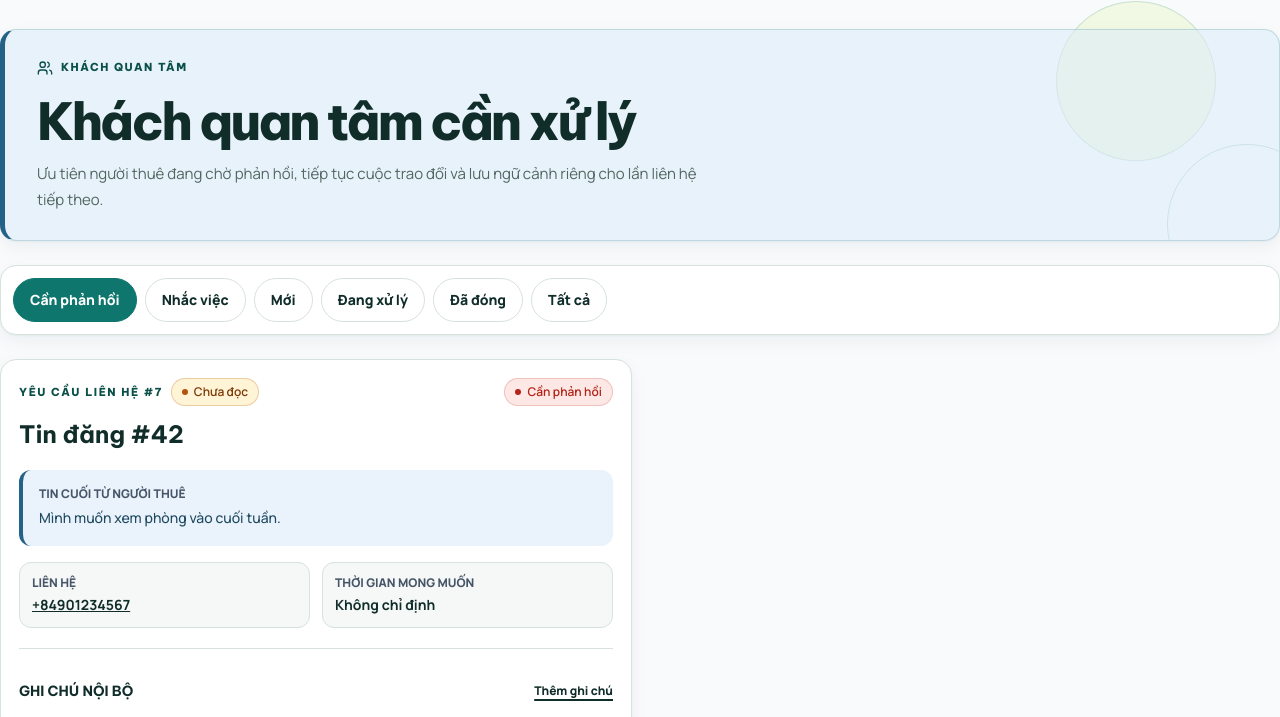
LandlordLeadsPage › loads the needs-reply work queue and saves a private note
Expected: the text "Mình muốn xem phòng vào cuối tuần." is shown, [39, 508, 281, 527]
Expected: the text "Chưa đọc" is shown, [171, 378, 259, 406]
Click the button "Thêm ghi chú".
click(574, 691)  # box [534, 669, 613, 713]
(page scrolled)
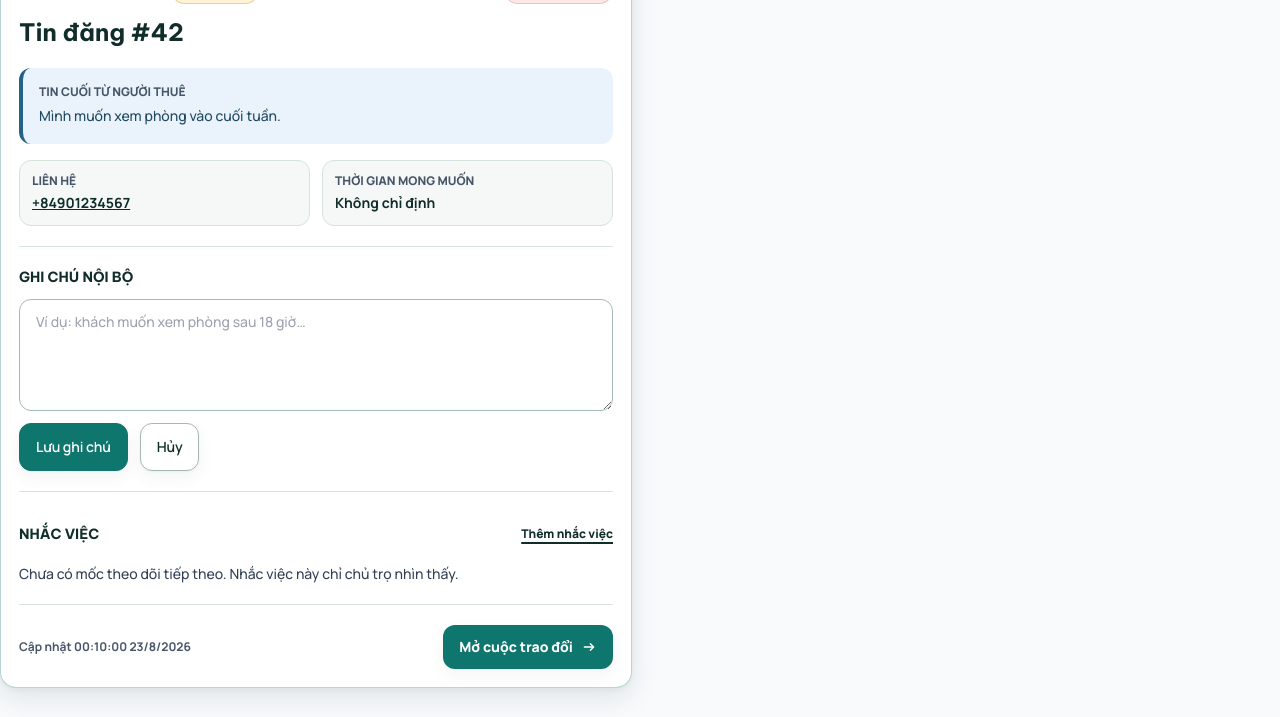
Type "Gọi lại sau 18 giờ." into the text box named "Ghi chú nội bộ".
click(316, 355); type("Gọi lại sau 18 giờ.")  # box [19, 299, 613, 411]
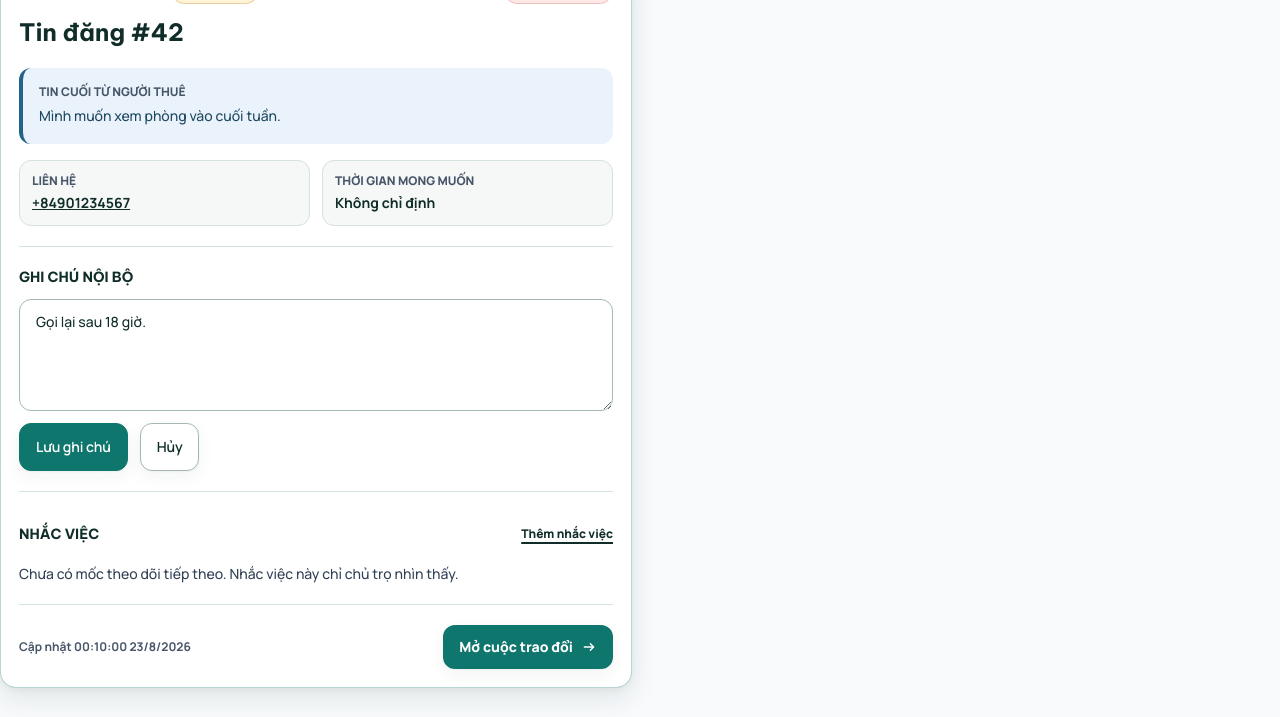
Click the button "Lưu ghi chú".
click(73, 447)  # box [19, 423, 128, 471]
(page scrolled)
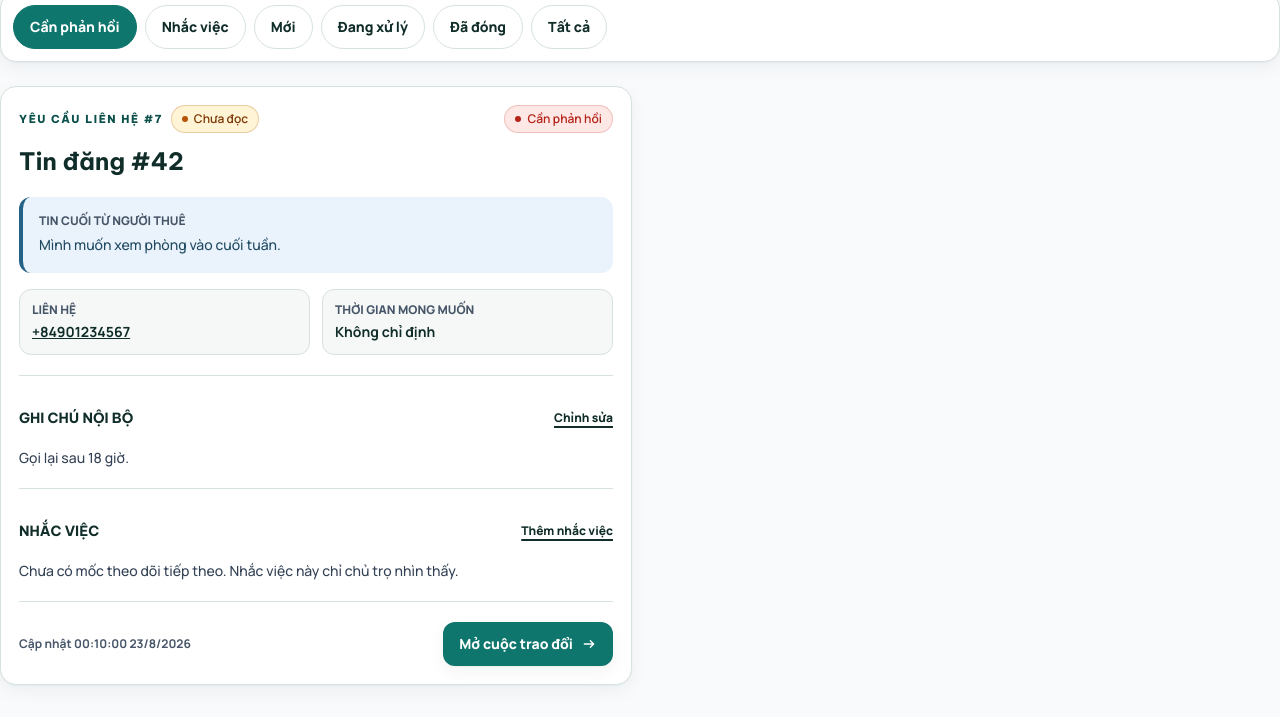
Expected: the text "Gọi lại sau 18 giờ." is shown, [19, 448, 129, 467]
